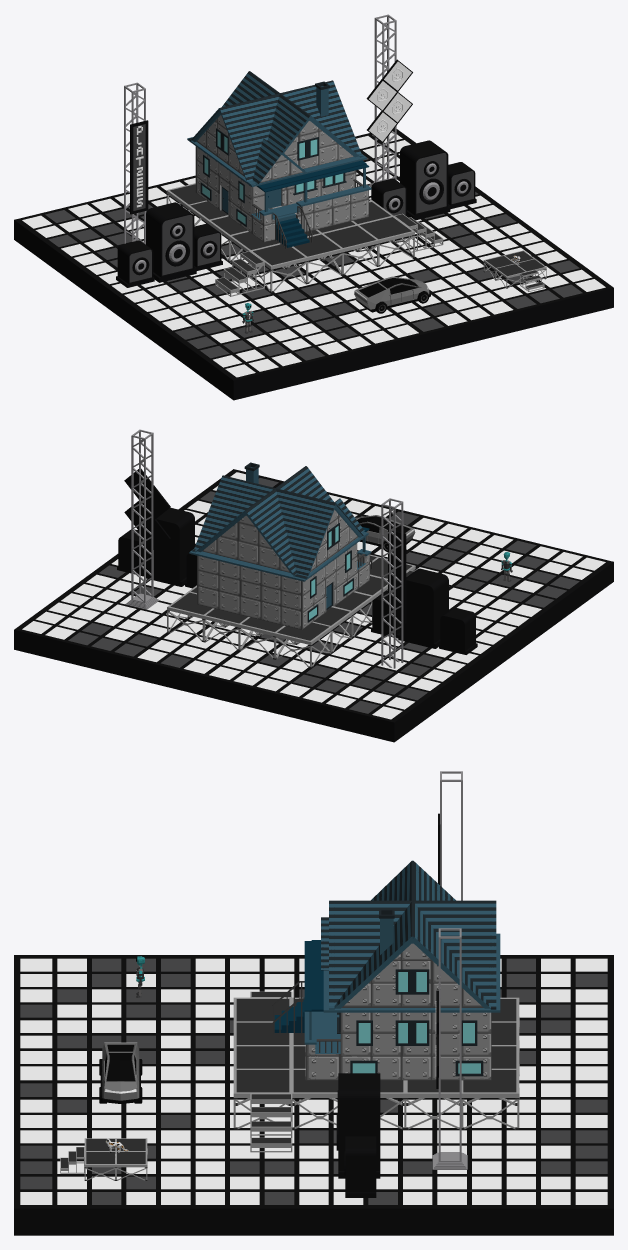
3 views of the same model, one above another, from view 1: azimuth 30°, elevation 25°; view 2: azimuth 150°, elevation 25°; view 3: azimuth 270°, elevation 25° (orthographic). The views are drawn at different scales.
Visible parts, largest first — view 1: Cube.008, Cube.078, VEHICLES_CYBERTRUCK; view 2: Cube.008, Cube.078, VEHICLES_CYBERTRUCK; view 3: Cube.008, Cube.078, VEHICLES_CYBERTRUCK.
Part boxes in pixels (bbox=[...]): Cube.008: bbox=[14, 14, 613, 400]; Cube.078: bbox=[187, 71, 371, 248]; VEHICLES_CYBERTRUCK: bbox=[354, 276, 430, 313]; Cube.008: bbox=[14, 429, 613, 742]; Cube.078: bbox=[189, 462, 372, 629]; VEHICLES_CYBERTRUCK: bbox=[355, 515, 415, 552]; Cube.008: bbox=[14, 771, 613, 1235]; Cube.078: bbox=[272, 860, 500, 1080]; VEHICLES_CYBERTRUCK: bbox=[99, 1042, 142, 1103].
Bounding box in the file's own units: 4000 × 1975 × 4000.
36 materials, 3 textured.
